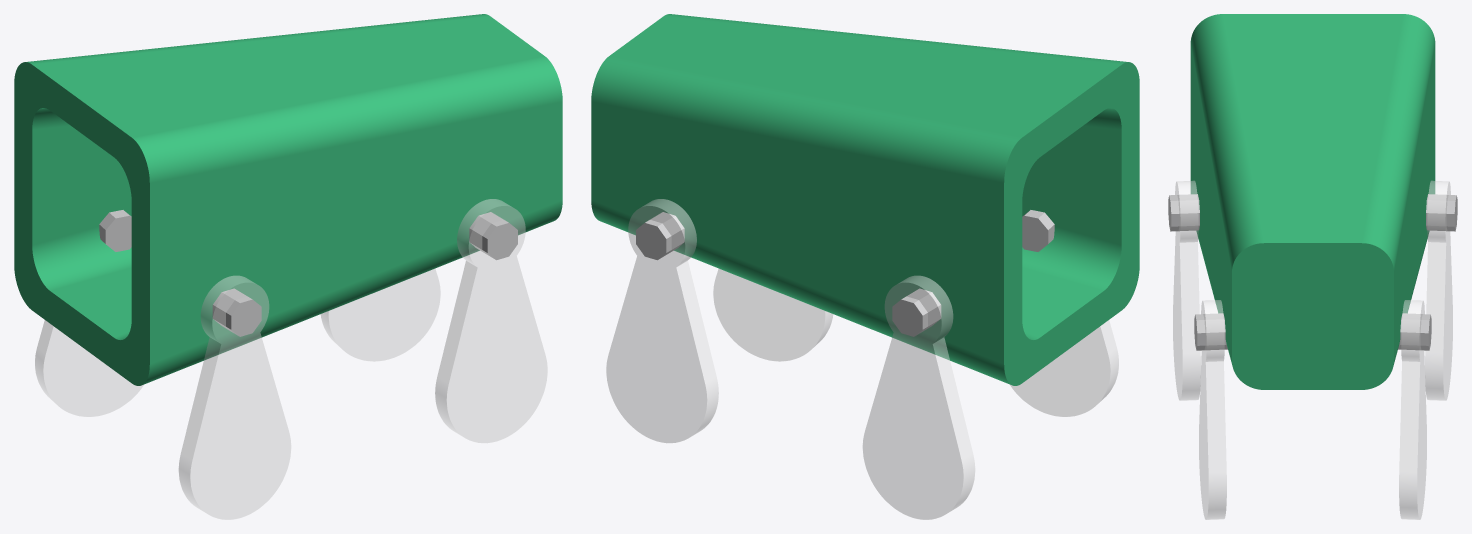
Rendered from 機構練習.glb.
3 views of the same model, side by side, from view 1: azimuth 30°, elevation 25°; view 2: azimuth 150°, elevation 25°; view 3: azimuth 270°, elevation 25° (orthographic). The views are drawn at different scales.
Bounding box in the file's own units: 0.028 × 0.0235 × 0.0179.
